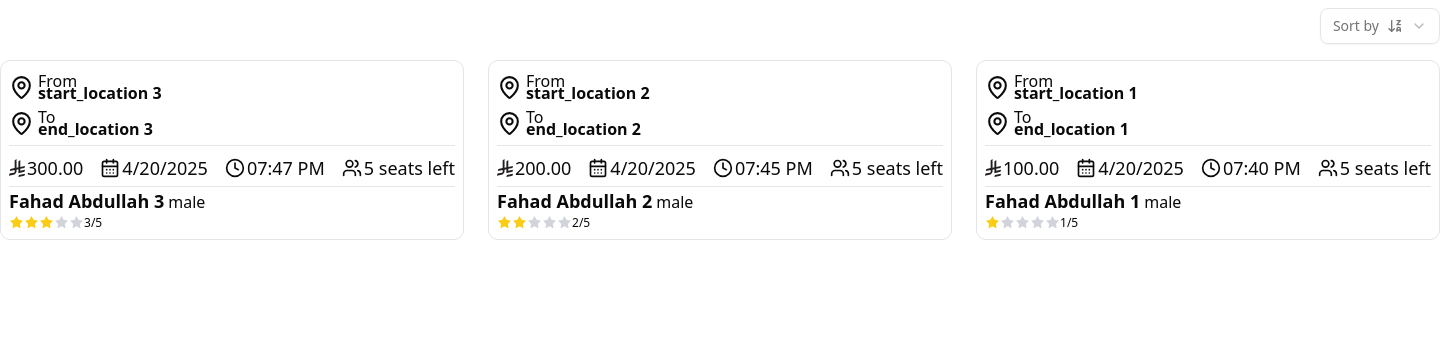
Scenario: <SearchResult /> › sorts by earliest time
What coordinates should you click on to do the following:
click the dropdown with id "sortBy"
I would click on:
 (1380, 26)
Its box is x1=1320 y1=8 x2=1440 y2=44.
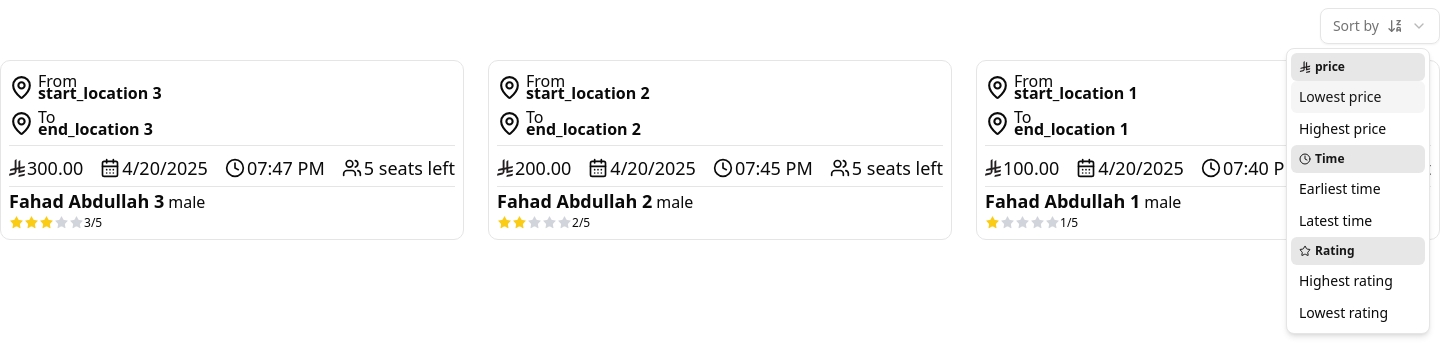
What coordinates should you click on to do the following:
click the text "Earliest time"
I would click on:
 (1340, 189)
Its box is x1=1299 y1=179 x2=1381 y2=199.
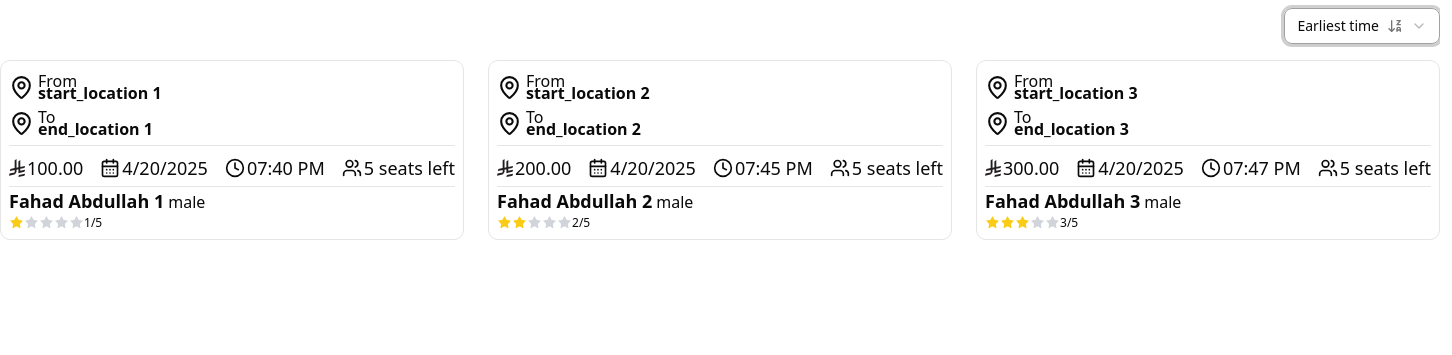
Expected: the element with id "trip-card" shows "Fahad Abdullah 2", x1=488 y1=60 x2=952 y2=240
Expected: the element with id "trip-card" shows "Fahad Abdullah 1", x1=0 y1=60 x2=464 y2=240
Expected: the element with id "trip-card" shows "Fahad Abdullah 3", x1=976 y1=60 x2=1440 y2=240
